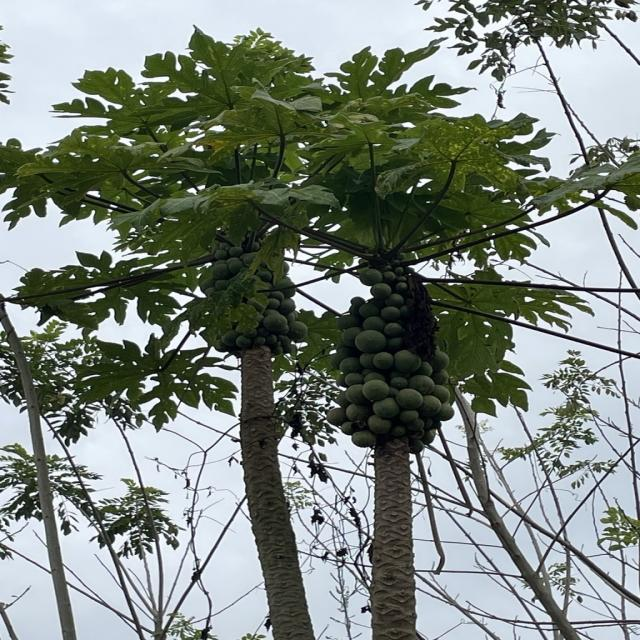Papaya-Tree: (314, 109, 520, 640), (159, 84, 333, 640)
